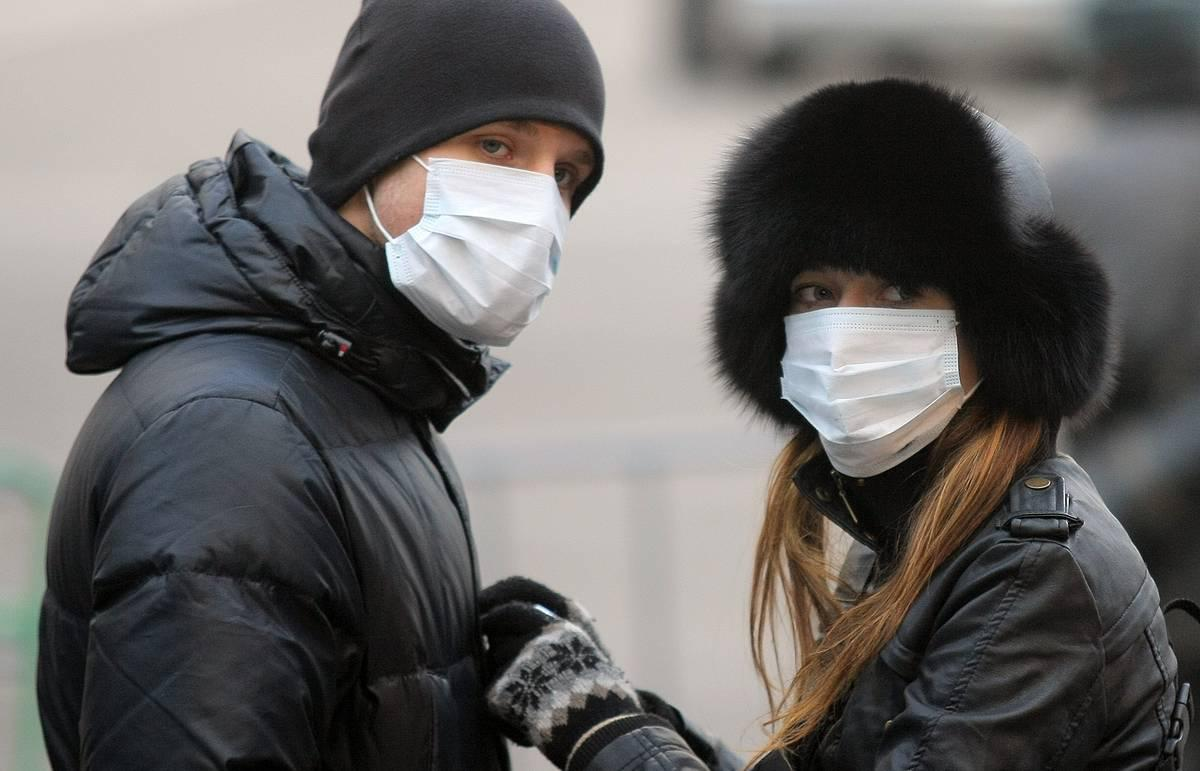mask: (349, 109, 599, 342), (776, 258, 958, 478)
